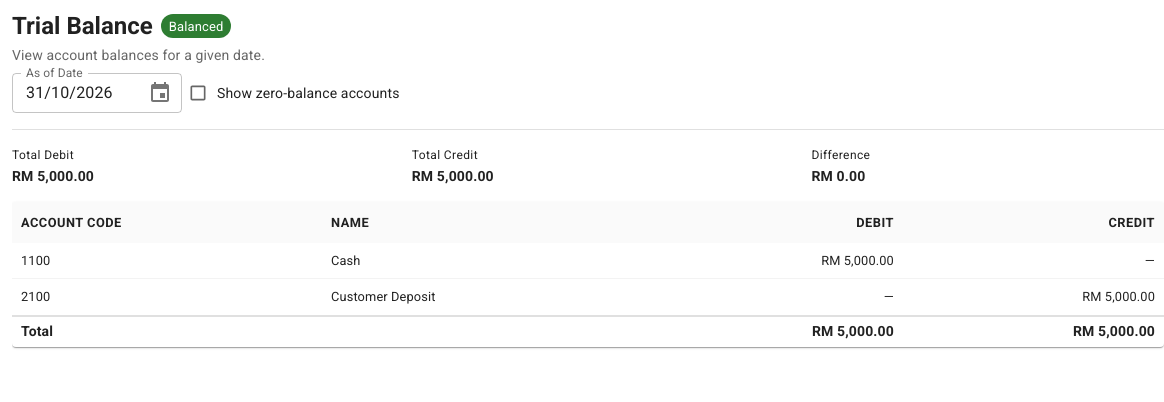
Scenario: TrialBalancePage › shows zero-balance rows after toggling "Show zero-balance accounts" checkbox
Expected: the text "Retained Earnings" is not shown
Step 1. Click the checkbox labelled "Show zero-balance accounts" → (294,93), box [188, 83, 400, 103]
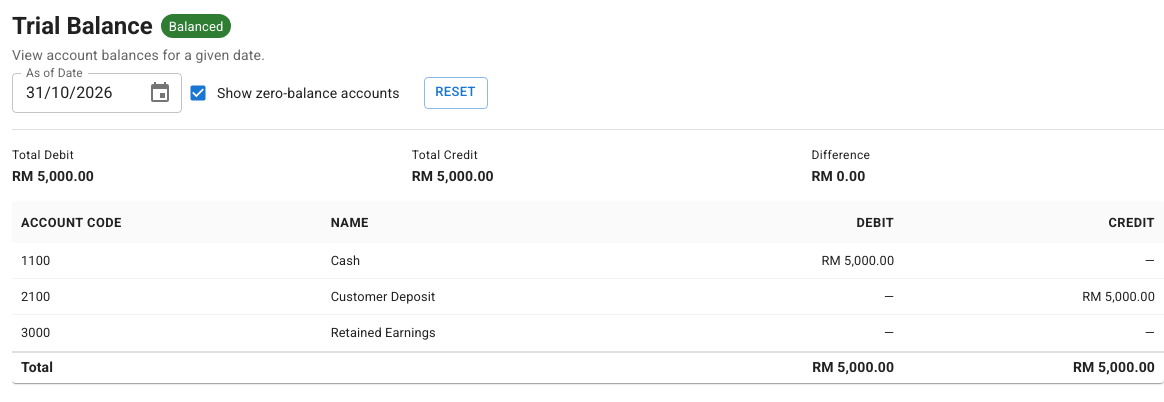
Result: the text "Retained Earnings" is shown at [331, 325, 436, 340]
